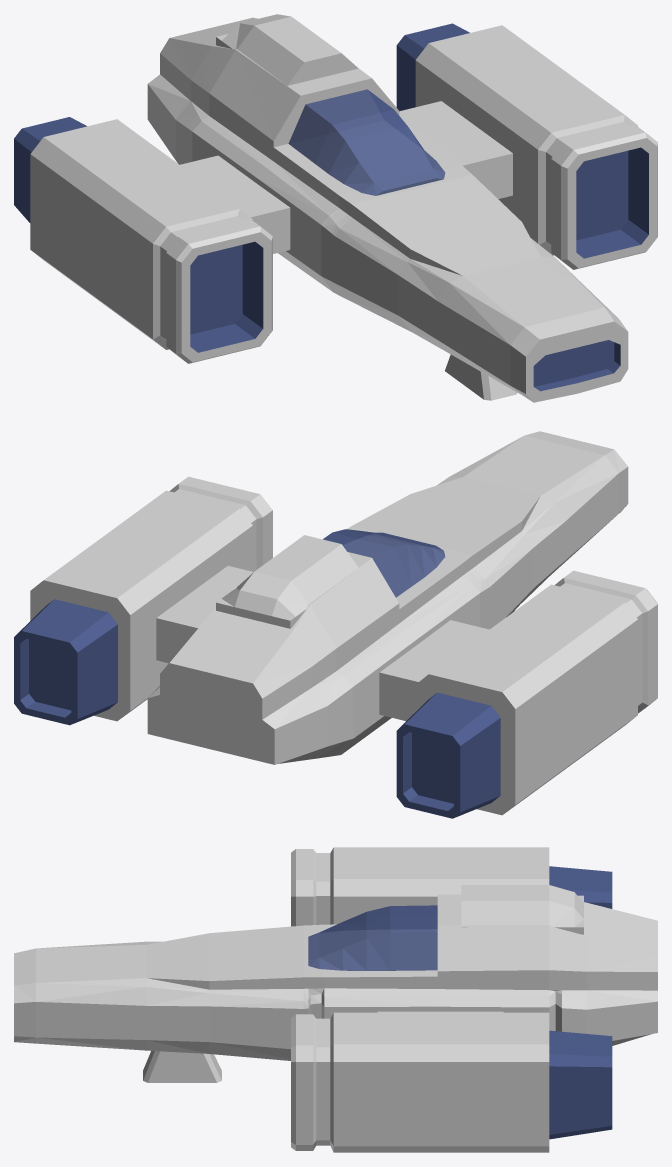
File: hull_comet.obj
3 views of the same model, one above another, from view 1: azimuth 30°, elevation 25°; view 2: azimuth 150°, elevation 25°; view 3: azimuth 270°, elevation 25° (orthographic). The views are drawn at different scales.
Bounding box in the file's own units: 3.13 × 1.28 × 4.09.
